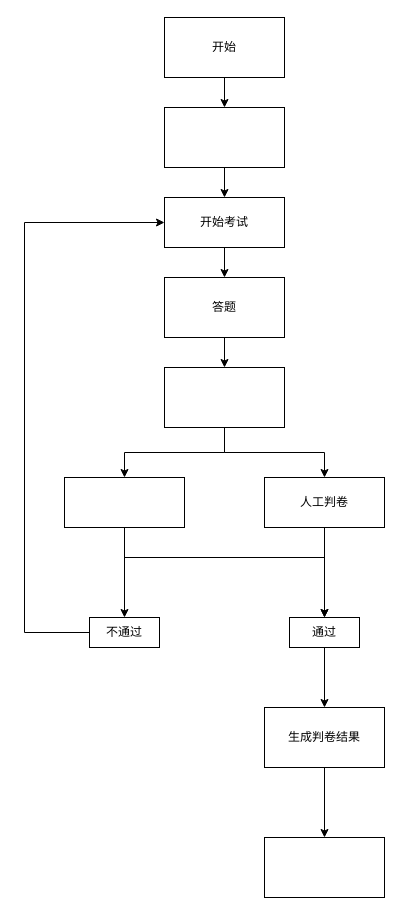
The diagram is 402 pixels wide and 915 high, and some of its shapes have lost their labels. Each missing label, with the centre of its shape:
学完: point (224, 137)
提交: point (224, 397)
显示结果: point (324, 867)
自动判卷: point (124, 502)
